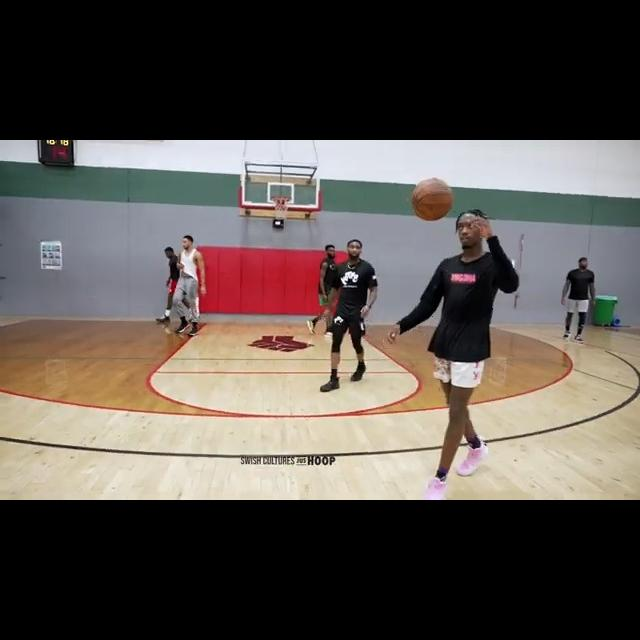basketball: (411, 177, 454, 220)
hoop: (271, 196, 293, 221)
person: (385, 209, 518, 500), (320, 237, 379, 397), (307, 245, 347, 336), (560, 257, 596, 344), (174, 234, 204, 337), (155, 243, 187, 324)
